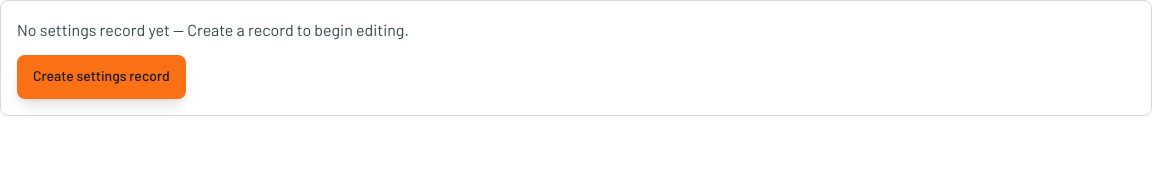
Test: missing settings records › reports permission errors without claiming creation succeeded
This screenshot has width=1152, height=170.
Click the button "Create settings record" at (101, 77), box top-left (17, 55), bottom-right (186, 99)
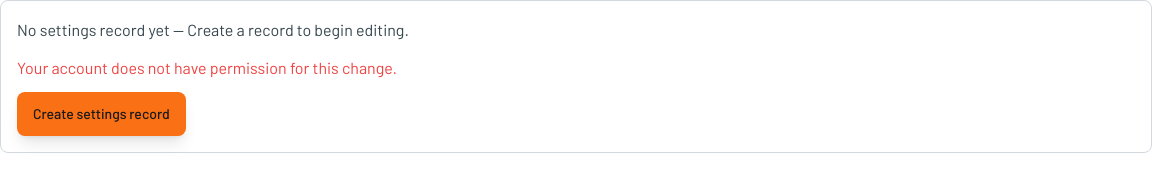
Expected: the message shows "permission", top-left (17, 58), bottom-right (397, 77)
